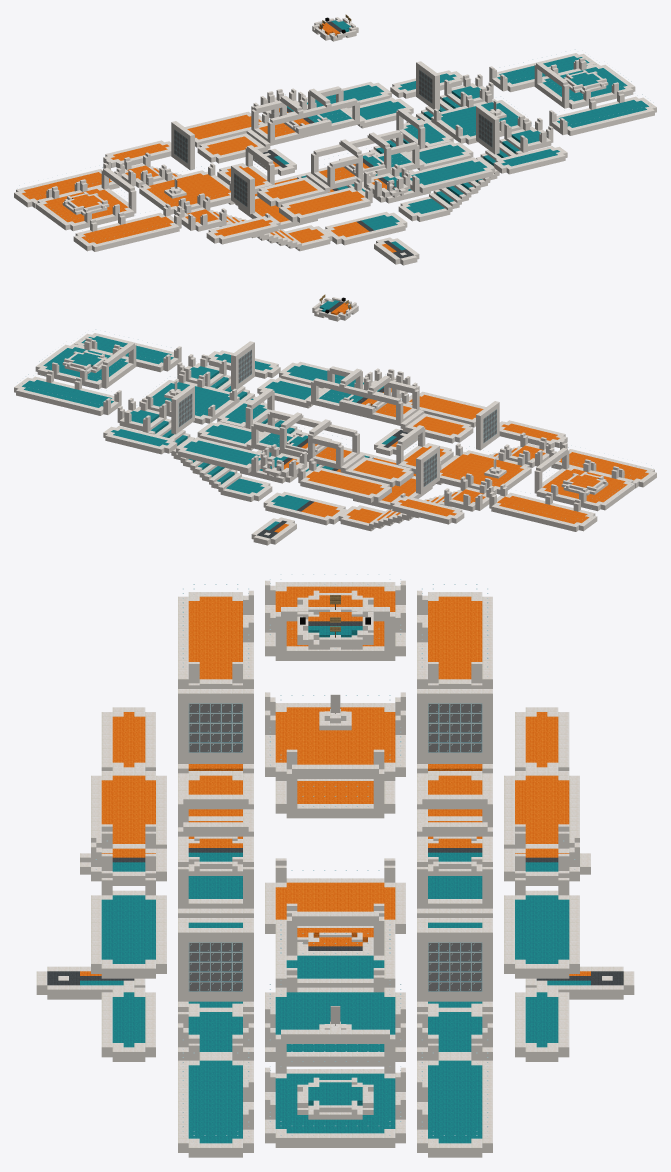
Rendered from minecraft.obj.
3 renders of one model, top to bottom at view 1: azimuth 30°, elevation 25°; view 2: azimuth 150°, elevation 25°; view 3: azimuth 270°, elevation 25°, orthographic. The views are drawn at different scales.
Size of the model in its own units: 1210 by 388 by 550.
